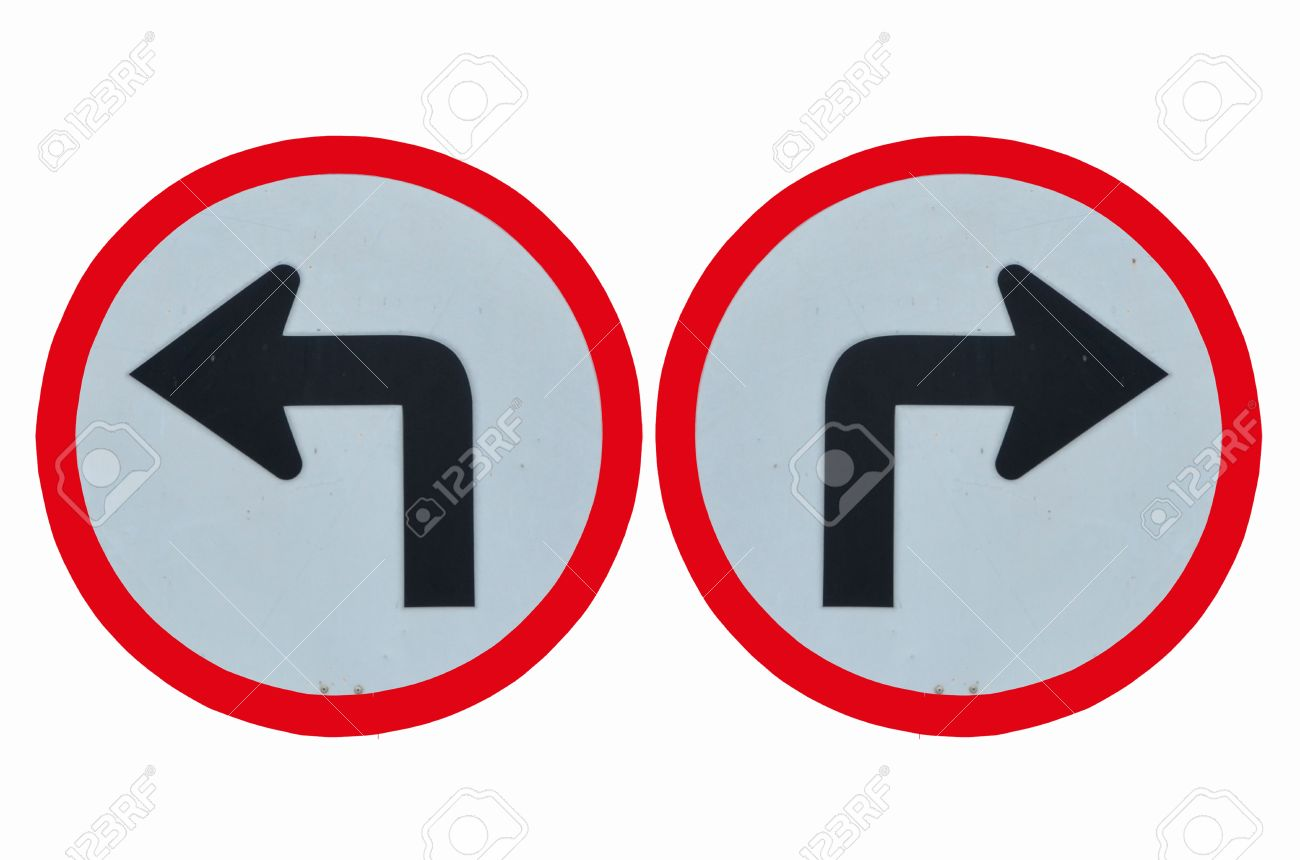left: (33, 132, 645, 736)
right: (655, 133, 1263, 740)
